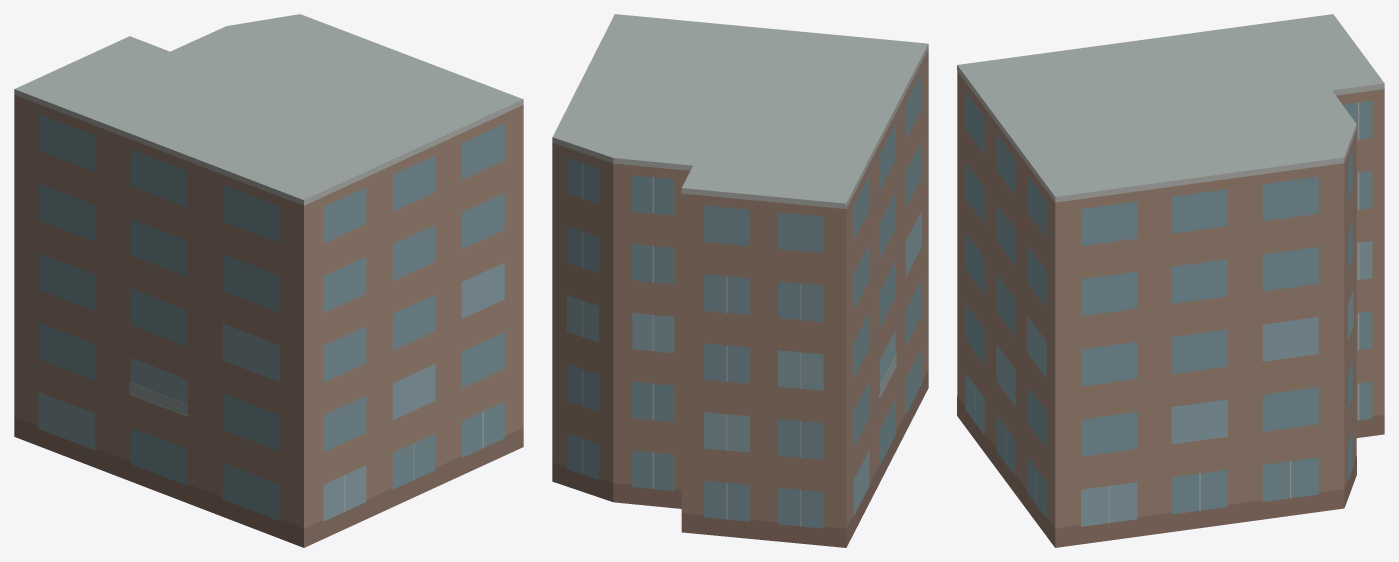
Rendered from survey-upis-32629801.glb.
3 views of the same model, side by side, from view 1: azimuth 30°, elevation 25°; view 2: azimuth 150°, elevation 25°; view 3: azimuth 270°, elevation 25° (orthographic).
Parts seen in each view (by area): view 1: survey-upis-32629801.tmp; view 2: survey-upis-32629801.tmp; view 3: survey-upis-32629801.tmp.
Boxes of the visible parts, box(x1,y1,x2,y2) form: survey-upis-32629801.tmp: box(14, 14, 523, 547); survey-upis-32629801.tmp: box(552, 14, 928, 547); survey-upis-32629801.tmp: box(957, 14, 1384, 547).
Size of the model in its own units: 17.06 by 15.25 by 16.85.
